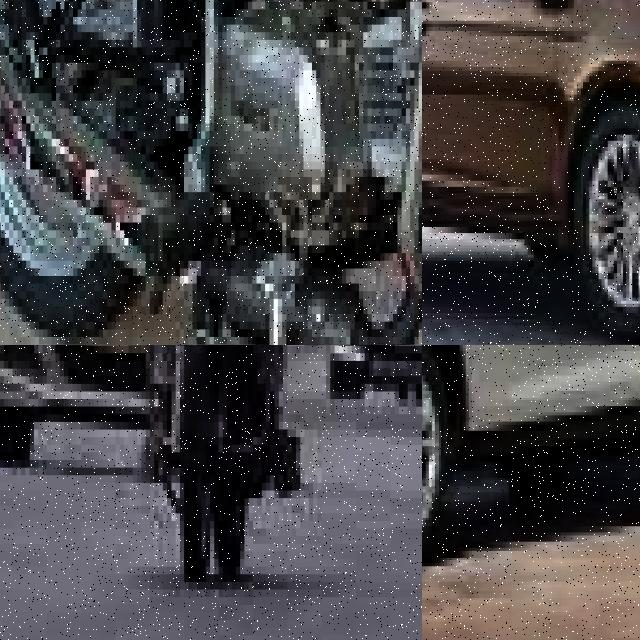bike: (0, 0, 422, 345), (145, 345, 304, 605)
car: (422, 0, 640, 345), (422, 345, 640, 606)
